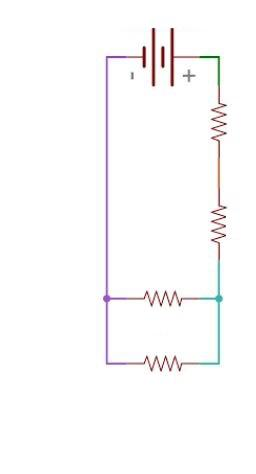resistor: (130, 275, 201, 324), (123, 343, 200, 379), (208, 78, 241, 151), (201, 191, 232, 251)
